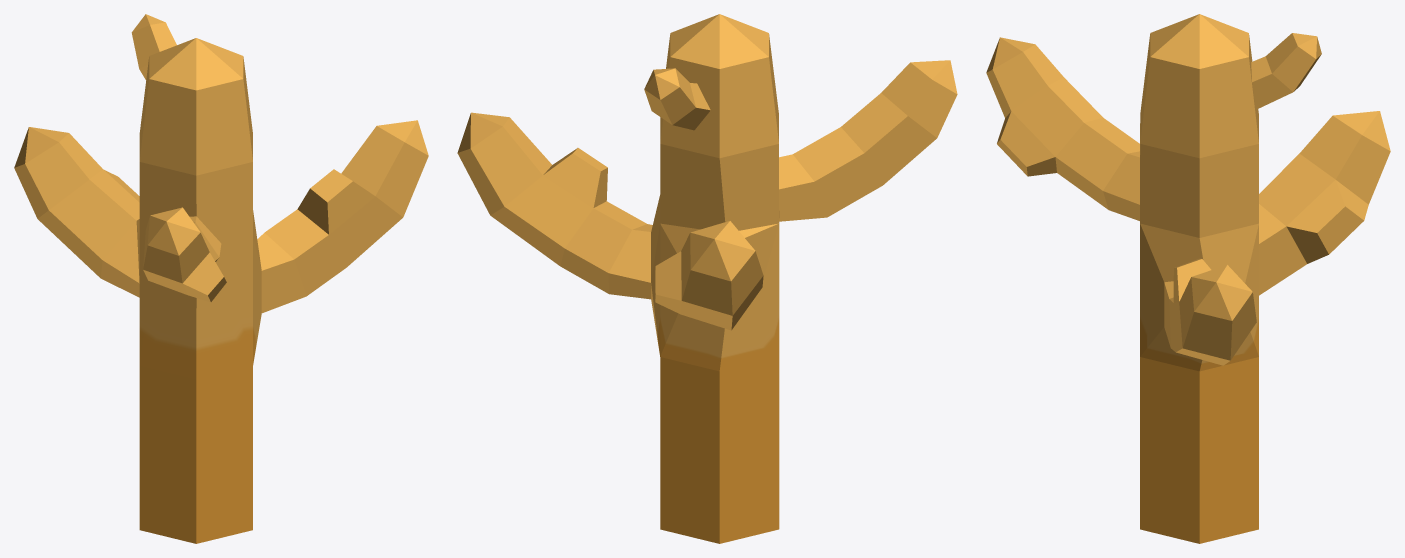
The model's file is trp_coral3.glb.
3 renders of one model, left to right at view 1: azimuth 30°, elevation 25°; view 2: azimuth 150°, elevation 25°; view 3: azimuth 270°, elevation 25°, orthographic. The views are drawn at different scales.
Parts seen in each view (by area): view 1: SM_Prop_Coral_03; view 2: SM_Prop_Coral_03; view 3: SM_Prop_Coral_03.
Boxes of the visible parts, bbox=[...] form: SM_Prop_Coral_03: bbox=[14, 14, 428, 543]; SM_Prop_Coral_03: bbox=[457, 14, 957, 543]; SM_Prop_Coral_03: bbox=[986, 14, 1390, 543].
Bounding box in the file's own units: 0.2081 × 0.2552 × 0.1868.
1 material, 1 textured.
